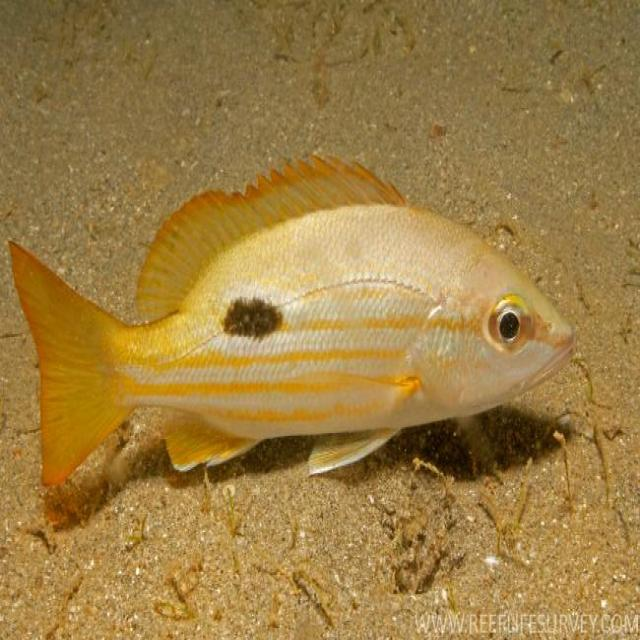ikan: (7, 149, 575, 488)
